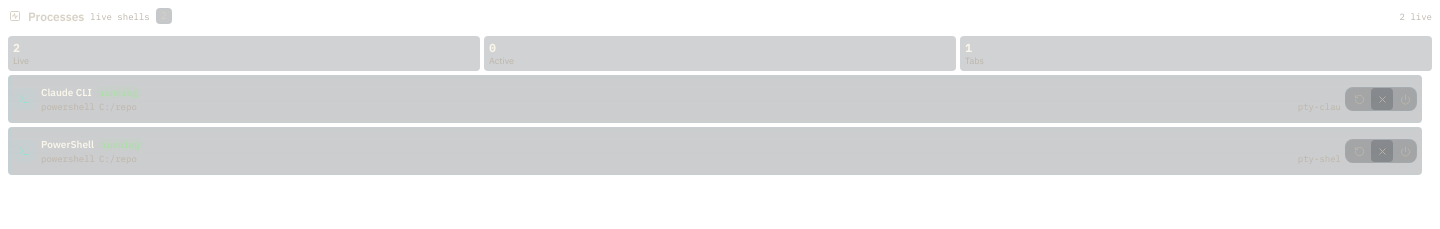
Test case: ProcessManagerPanel › drops recovery state when the affected pane is removed
This screenshot has width=1440, height=229.
What coordinates should you click on to do the following:
click the button named "End Claude CLI"
I would click on:
 (1405, 99)
Its box is x1=1394 y1=88 x2=1416 y2=110.
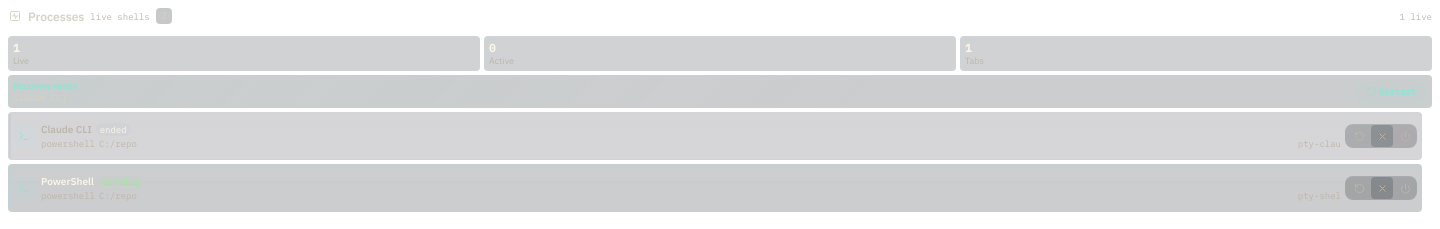
Now the element named "Process recovery" is shown, box x1=8 y1=75 x2=1432 y2=108
